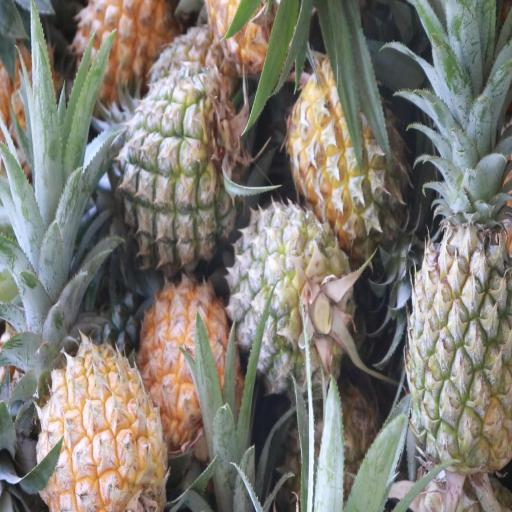------------------------------: (287, 61, 409, 249), (119, 78, 244, 254), (230, 210, 351, 389)
Pineapple - v8 v1: (31, 343, 162, 512), (139, 288, 236, 450), (78, 0, 180, 91)
